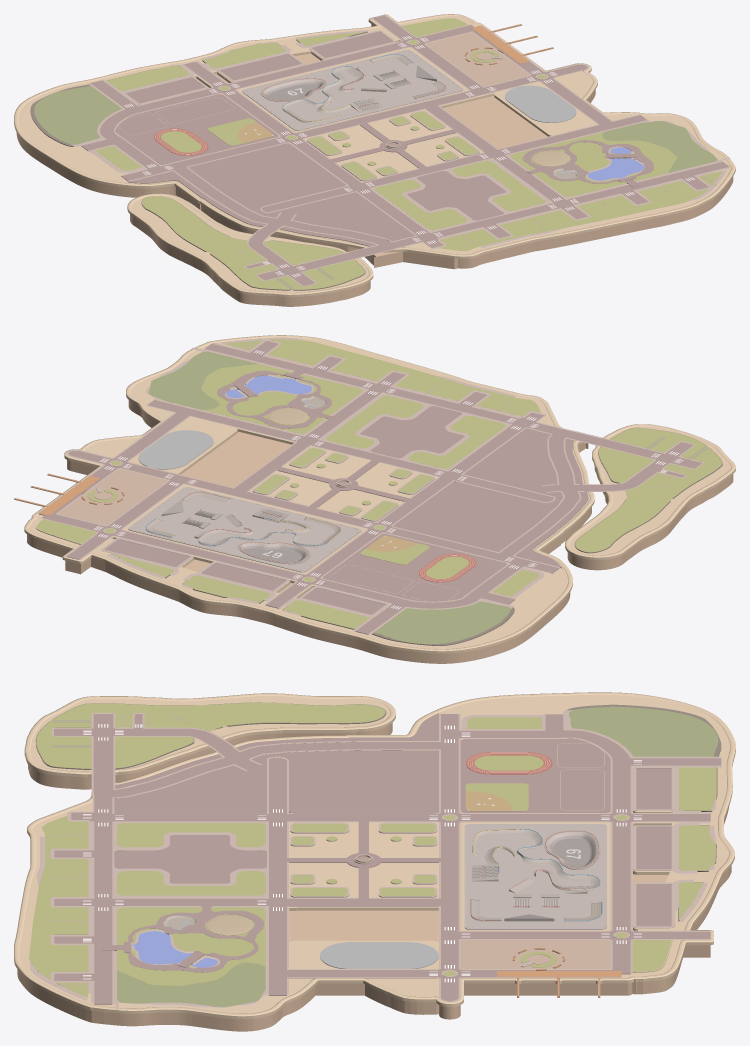
File: ada_calisma.glb
3 views of the same model, one above another, from view 1: azimuth 30°, elevation 25°; view 2: azimuth 150°, elevation 25°; view 3: azimuth 270°, elevation 25° (orthographic). The views are drawn at different scales.
Visible parts, largest first — view 1: 5_YOL, 3_CIMEN, 4_ANA_KUMTABAN, 5_PARSEL_ZEMIN, 1_TABAN, 6_BORDUR, 5_KB_SPOR_ZEMIN, 67D_SKATEPARK_BASE, 3_CIMEN_KOYU, 7_KALDIRIM_TABANI, 67F_ANA_ADA_ALT_KOPRU_KUM_OMUZ, 4_KUMTABAN (+16 smaller); view 2: 5_YOL, 3_CIMEN, 4_ANA_KUMTABAN, 5_PARSEL_ZEMIN, 1_TABAN, 6_BORDUR, 5_KB_SPOR_ZEMIN, 67D_SKATEPARK_BASE, 3_CIMEN_KOYU, 7_KALDIRIM_TABANI, 67F_ANA_ADA_ALT_KOPRU_KUM_OMUZ, 4_KUMTABAN (+16 smaller); view 3: 5_YOL, 3_CIMEN, 4_ANA_KUMTABAN, 5_PARSEL_ZEMIN, 1_TABAN, 5_KB_SPOR_ZEMIN, 6_BORDUR, 67D_SKATEPARK_BASE, 3_CIMEN_KOYU, 7_KALDIRIM_TABANI, 67F_ANA_ADA_ALT_KOPRU_KUM_OMUZ, 4_KUMTABAN (+18 smaller).
Part boxes in pixels (x1=…): 5_YOL: x1=81, y1=15, x2=729, y2=285; 3_CIMEN: x1=95, y1=31, x2=722, y2=289; 4_ANA_KUMTABAN: x1=14, y1=14, x2=735, y2=258; 5_PARSEL_ZEMIN: x1=127, y1=143, x2=506, y2=246; 1_TABAN: x1=16, y1=24, x2=733, y2=306; 6_BORDUR: x1=81, y1=15, x2=730, y2=286; 5_KB_SPOR_ZEMIN: x1=115, y1=31, x2=392, y2=164; 67D_SKATEPARK_BASE: x1=242, y1=50, x2=463, y2=130; 3_CIMEN_KOYU: x1=34, y1=86, x2=717, y2=172; 7_KALDIRIM_TABANI: x1=71, y1=30, x2=730, y2=290; 67F_ANA_ADA_ALT_KOPRU_KUM_OMUZ: x1=14, y1=14, x2=735, y2=256; 4_KUMTABAN: x1=127, y1=195, x2=373, y2=297; 5_YOL: x1=39, y1=341, x2=701, y2=634; 3_CIMEN: x1=113, y1=339, x2=721, y2=628; 4_ANA_KUMTABAN: x1=24, y1=337, x2=594, y2=653; 5_PARSEL_ZEMIN: x1=360, y1=406, x2=588, y2=568; 1_TABAN: x1=27, y1=400, x2=733, y2=663; 6_BORDUR: x1=38, y1=339, x2=703, y2=634; 5_KB_SPOR_ZEMIN: x1=105, y1=533, x2=506, y2=614; 67D_SKATEPARK_BASE: x1=128, y1=487, x2=361, y2=572; 3_CIMEN_KOYU: x1=149, y1=351, x2=510, y2=643; 7_KALDIRIM_TABANI: x1=107, y1=337, x2=709, y2=634; 67F_ANA_ADA_ALT_KOPRU_KUM_OMUZ: x1=24, y1=335, x2=594, y2=651; 4_KUMTABAN: x1=565, y1=426, x2=735, y2=559; 5_YOL: x1=54, y1=714, x2=721, y2=1004; 3_CIMEN: x1=29, y1=702, x2=716, y2=997; 4_ANA_KUMTABAN: x1=14, y1=694, x2=735, y2=1019; 5_PARSEL_ZEMIN: x1=114, y1=713, x2=438, y2=883; 1_TABAN: x1=17, y1=723, x2=731, y2=1031; 5_KB_SPOR_ZEMIN: x1=460, y1=739, x2=671, y2=926; 6_BORDUR: x1=52, y1=712, x2=721, y2=1003; 67D_SKATEPARK_BASE: x1=464, y1=824, x2=606, y2=929; 3_CIMEN_KOYU: x1=117, y1=706, x2=718, y2=1007; 7_KALDIRIM_TABANI: x1=30, y1=710, x2=722, y2=1010; 67F_ANA_ADA_ALT_KOPRU_KUM_OMUZ: x1=14, y1=692, x2=735, y2=1016; 4_KUMTABAN: x1=24, y1=696, x2=395, y2=777.
Size of the model in its own units: 2.52 by 0.0735 by 2.38.
Materials: 56 (1 with a texture image).
